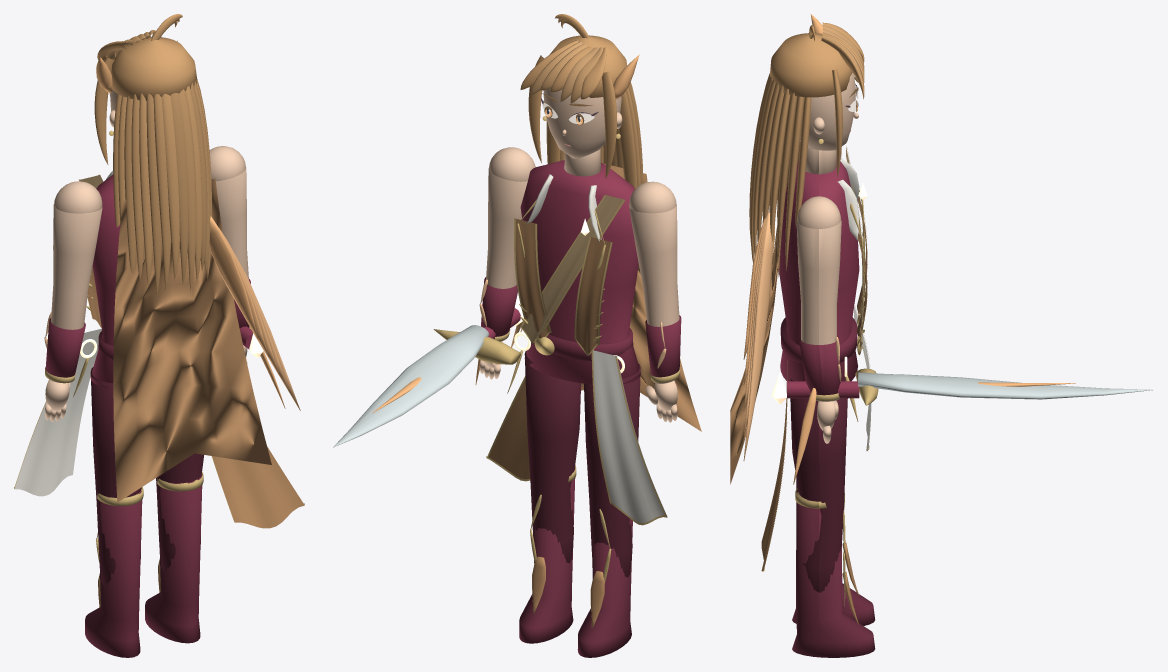
File: character_06.glb
3 renders of one model, left to right at view 1: azimuth 30°, elevation 25°; view 2: azimuth 150°, elevation 25°; view 3: azimuth 270°, elevation 25°, orthographic. The views are drawn at different scales.
Visible parts, largest first — view 1: _MeshInstance3D_1889, _MeshInstance3D_1929, _MeshInstance3D_1899, _MeshInstance3D_1930, _MeshInstance3D_1904, _MeshInstance3D_1896, _MeshInstance3D_1931, _MeshInstance3D_1885, _MeshInstance3D_1887, _MeshInstance3D_1871, _MeshInstance3D_1895, _MeshInstance3D_1907 (+8 smaller); view 2: _MeshInstance3D_1871, _MeshInstance3D_1903, _MeshInstance3D_1899, _MeshInstance3D_1885, _MeshInstance3D_1929, _MeshInstance3D_1907, _MeshInstance3D_1909, _MeshInstance3D_1895, _MeshInstance3D_1904, _MeshInstance3D_1896, _MeshInstance3D_1916, _MeshInstance3D_1875 (+18 smaller); view 3: _MeshInstance3D_1929, _MeshInstance3D_1871, _MeshInstance3D_1903, _MeshInstance3D_1907, _MeshInstance3D_1904, _MeshInstance3D_1909, _MeshInstance3D_1930, _MeshInstance3D_1931, _MeshInstance3D_1894, _MeshInstance3D_1916, _MeshInstance3D_1889, _MeshInstance3D_1908 (+7 smaller).
Boxes of the visible parts, x1,y1,x2,y2 form: _MeshInstance3D_1889: (113, 178, 271, 502); _MeshInstance3D_1929: (94, 14, 211, 286); _MeshInstance3D_1899: (45, 181, 102, 421); _MeshInstance3D_1930: (113, 80, 210, 291); _MeshInstance3D_1904: (145, 474, 202, 643); _MeshInstance3D_1896: (85, 491, 142, 657); _MeshInstance3D_1931: (124, 80, 207, 296); _MeshInstance3D_1885: (14, 328, 101, 496); _MeshInstance3D_1887: (212, 446, 304, 528); _MeshInstance3D_1871: (90, 174, 120, 388); _MeshInstance3D_1895: (90, 367, 141, 586); _MeshInstance3D_1907: (209, 146, 248, 363); _MeshInstance3D_1871: (520, 160, 640, 384); _MeshInstance3D_1903: (524, 351, 580, 563); _MeshInstance3D_1899: (629, 181, 679, 422); _MeshInstance3D_1885: (593, 350, 666, 523); _MeshInstance3D_1929: (520, 14, 640, 186); _MeshInstance3D_1907: (479, 147, 535, 379); _MeshInstance3D_1909: (333, 325, 489, 447); _MeshInstance3D_1895: (584, 363, 640, 577); _MeshInstance3D_1904: (519, 467, 575, 643); _MeshInstance3D_1896: (577, 519, 632, 657); _MeshInstance3D_1916: (543, 88, 622, 158); _MeshInstance3D_1875: (522, 195, 625, 341); _MeshInstance3D_1929: (753, 22, 864, 282); _MeshInstance3D_1871: (779, 159, 859, 381); _MeshInstance3D_1903: (790, 378, 847, 592); _MeshInstance3D_1907: (796, 196, 841, 443); _MeshInstance3D_1904: (792, 489, 875, 657); _MeshInstance3D_1909: (858, 372, 1153, 399); _MeshInstance3D_1930: (750, 77, 804, 270); _MeshInstance3D_1931: (749, 74, 797, 277); _MeshInstance3D_1894: (743, 212, 772, 460); _MeshInstance3D_1916: (800, 73, 858, 150); _MeshInstance3D_1889: (730, 195, 781, 484); _MeshInstance3D_1908: (799, 337, 840, 395).
Bounding box in the file's own units: 1.03 × 2.54 × 1.58.
